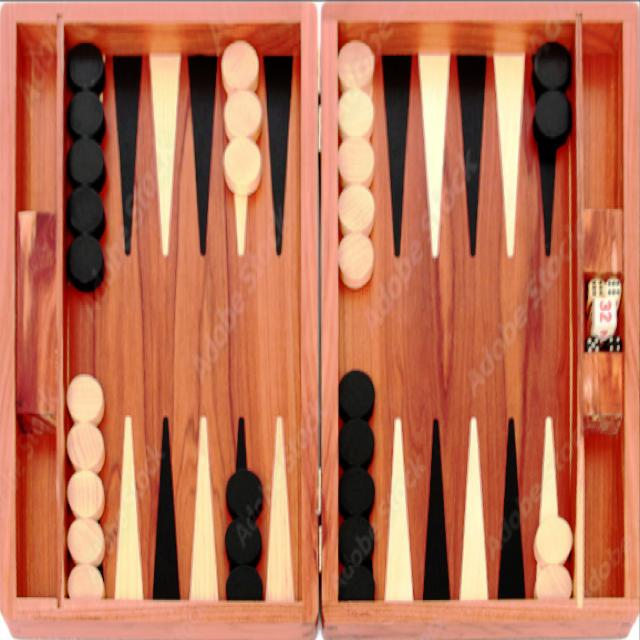bar: (301, 41, 338, 592)
board: (65, 32, 578, 603)
dark_p: (527, 31, 577, 90), (531, 92, 577, 153), (68, 232, 109, 294), (66, 182, 108, 240), (224, 466, 264, 525), (335, 365, 376, 422), (65, 38, 109, 90), (336, 463, 376, 520), (67, 139, 107, 193), (221, 513, 263, 564), (338, 413, 374, 467), (68, 91, 108, 137), (339, 517, 375, 568), (222, 564, 268, 600), (335, 566, 381, 602)
dice: (590, 296, 619, 338), (606, 272, 625, 303), (586, 277, 606, 304), (604, 335, 626, 355), (585, 335, 604, 355)
light_p: (220, 136, 262, 200), (64, 372, 108, 427), (64, 420, 106, 476), (220, 38, 260, 96), (338, 86, 382, 138), (534, 514, 574, 567), (336, 184, 376, 237), (66, 519, 108, 569), (336, 38, 376, 90), (337, 235, 375, 289), (66, 469, 104, 521), (222, 92, 262, 141), (339, 135, 377, 184), (532, 566, 576, 602), (64, 566, 106, 603)
